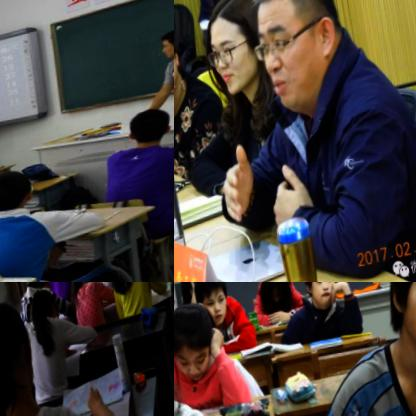head: (237, 0, 363, 141), (199, 0, 275, 104), (0, 293, 35, 405), (174, 302, 217, 392), (378, 282, 416, 380), (120, 111, 173, 158), (192, 282, 235, 335), (0, 166, 32, 221), (25, 286, 58, 334), (251, 282, 292, 318), (300, 282, 340, 316), (176, 282, 209, 313), (149, 31, 174, 70), (67, 282, 95, 300), (25, 282, 47, 294)
